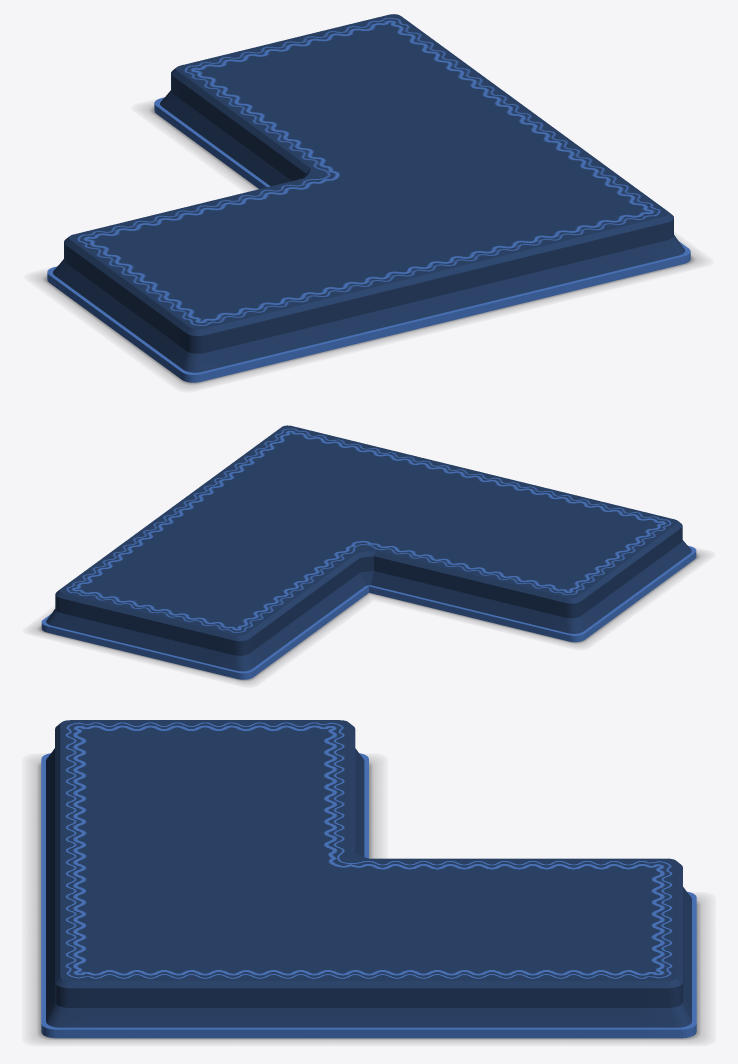
Rendered from island_l.glb.
3 renders of one model, top to bottom at view 1: azimuth 30°, elevation 25°; view 2: azimuth 150°, elevation 25°; view 3: azimuth 270°, elevation 25°, orthographic. The views are drawn at different scales.
Parts seen in each view (by area): view 1: slice_bot.014; view 2: slice_bot.014; view 3: slice_bot.014.
Boxes of the visible parts, x1,y1,x2,y2 form: slice_bot.014: (37, 14, 700, 386); slice_bot.014: (33, 425, 704, 683); slice_bot.014: (32, 720, 705, 1041).
Size of the model in its own units: 26 by 2 by 26.
5 materials, 5 textured.
